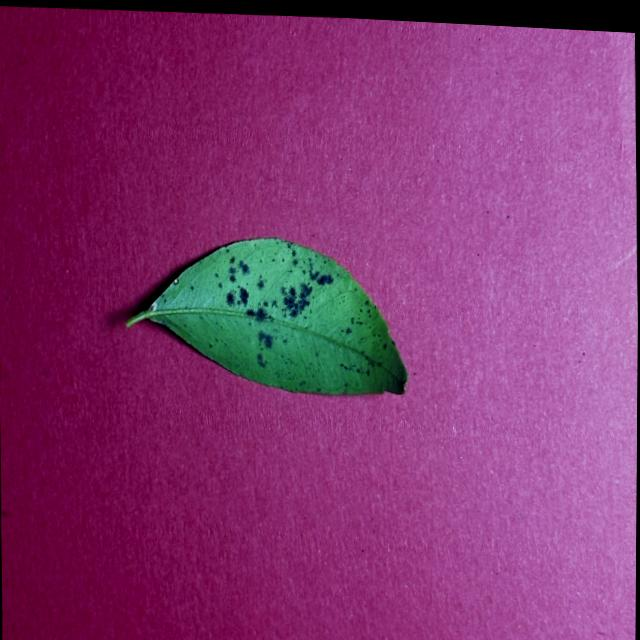sooty_mold: (126, 238, 406, 394)
